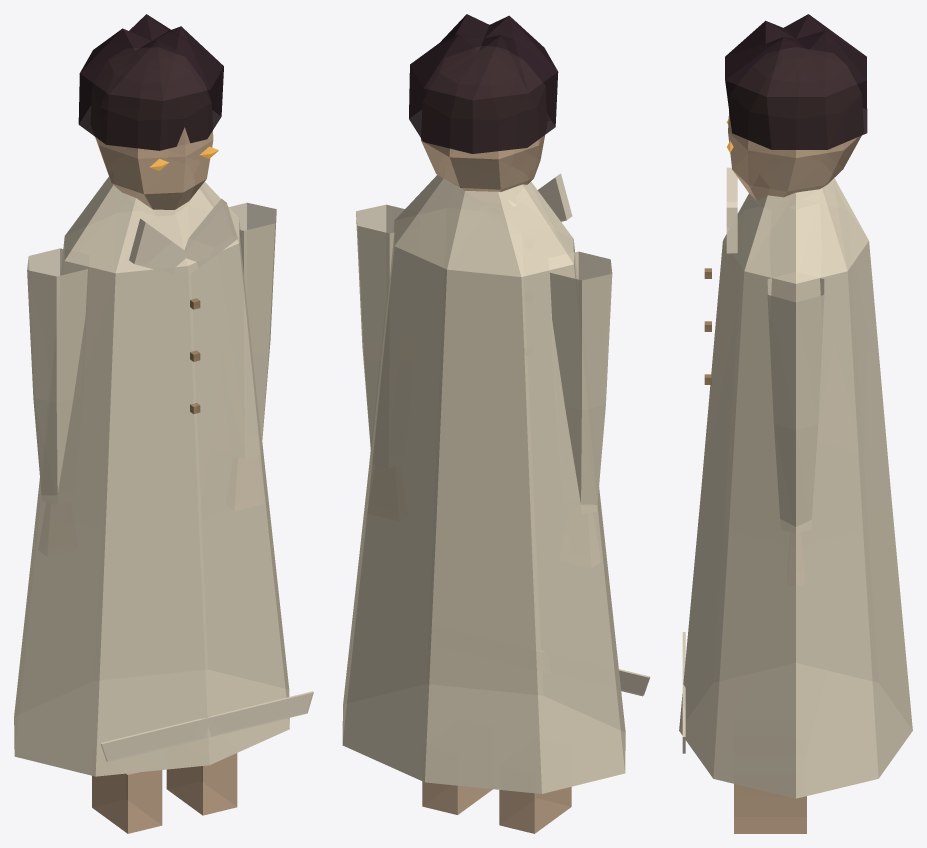
Rendered from anima_nino.glb.
3 views of the same model, side by side, from view 1: azimuth 30°, elevation 25°; view 2: azimuth 150°, elevation 25°; view 3: azimuth 270°, elevation 25° (orthographic). The views are drawn at different scales.
Parts seen in each view (by area): view 1: camison_antiguo, object 2, object 7, pie_descalzo (×2), object 1, object 5, dobladillo_antiguo, cuello_camison; view 2: camison_antiguo, object 2, object 7, object 5, object 1, pie_descalzo (×2), cuello_camison, dobladillo_antiguo; view 3: camison_antiguo, object 2, object 5, object 1, pie_descalzo, cuello_camison, dobladillo_antiguo.
Part boxes in pixels (x1,y1,x2,y2): camison_antiguo: (14, 177, 289, 776); object 2: (78, 14, 223, 150); object 7: (27, 248, 88, 495); pie_descalzo (×2): (92, 753, 237, 833); object 1: (95, 127, 213, 209); object 5: (229, 202, 276, 443); dobladillo_antiguo: (100, 691, 313, 761); cuello_camison: (129, 198, 237, 274); camison_antiguo: (342, 175, 625, 793); object 2: (409, 14, 558, 153); object 7: (549, 251, 612, 504); object 5: (356, 204, 404, 452); object 1: (421, 135, 544, 192); pie_descalzo (×2): (422, 781, 571, 833); cuello_camison: (537, 173, 572, 221); dobladillo_antiguo: (619, 669, 650, 696); camison_antiguo: (679, 178, 912, 798); object 2: (725, 14, 867, 149); object 5: (767, 278, 824, 526); object 1: (728, 111, 861, 200); pie_descalzo: (734, 784, 806, 833); cuello_camison: (726, 167, 737, 253); dobladillo_antiguo: (682, 632, 685, 753).
Bounding box in the file's own units: 0.44 × 1.18 × 0.32.
